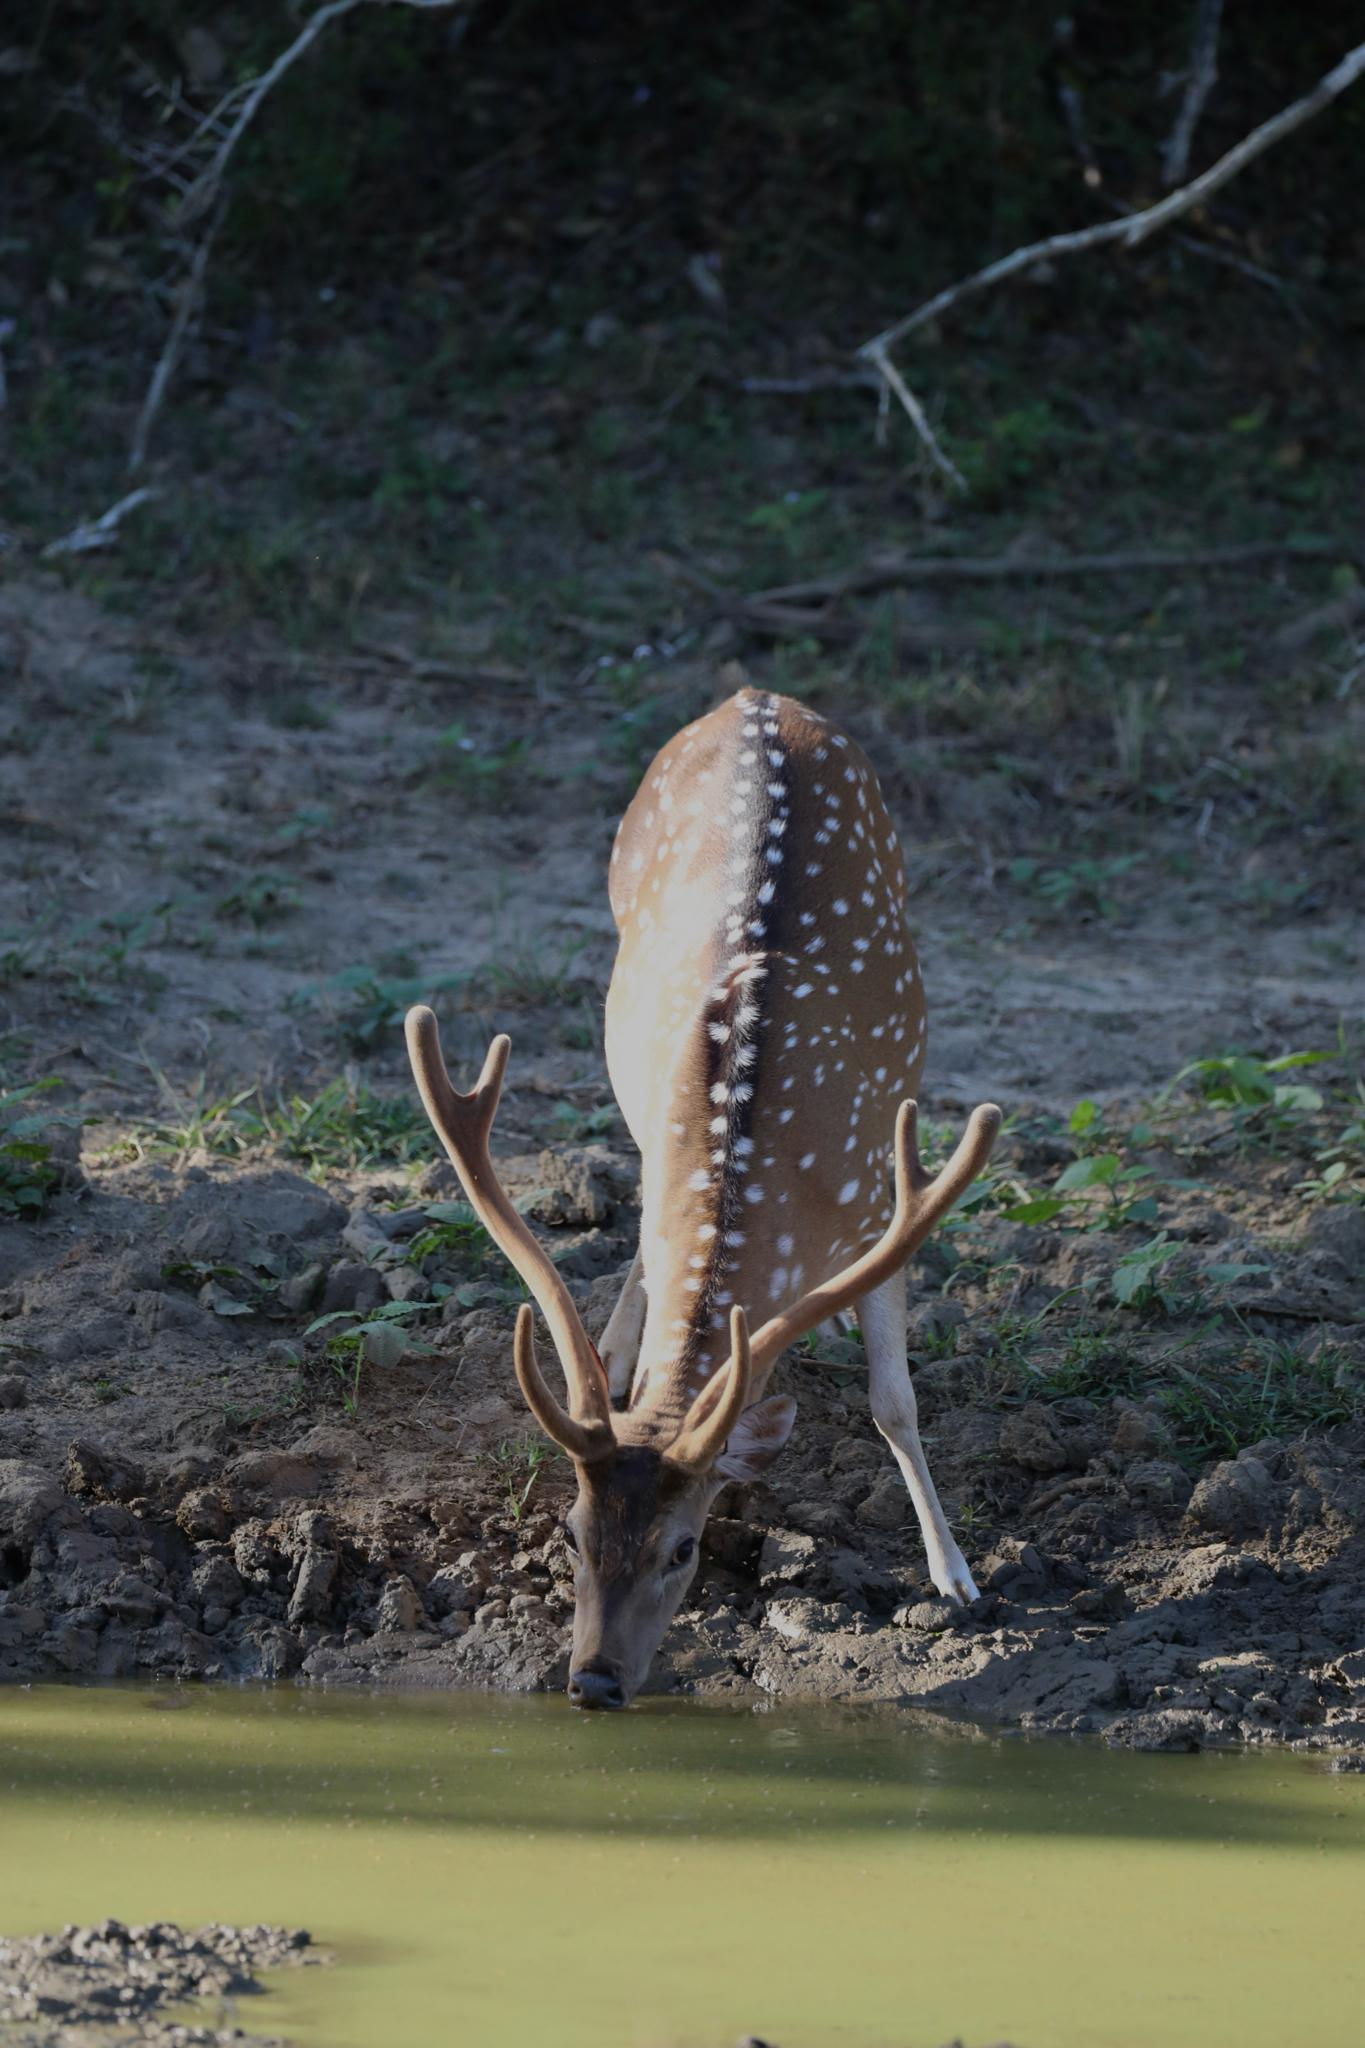Deer: (407, 688, 999, 1707)
